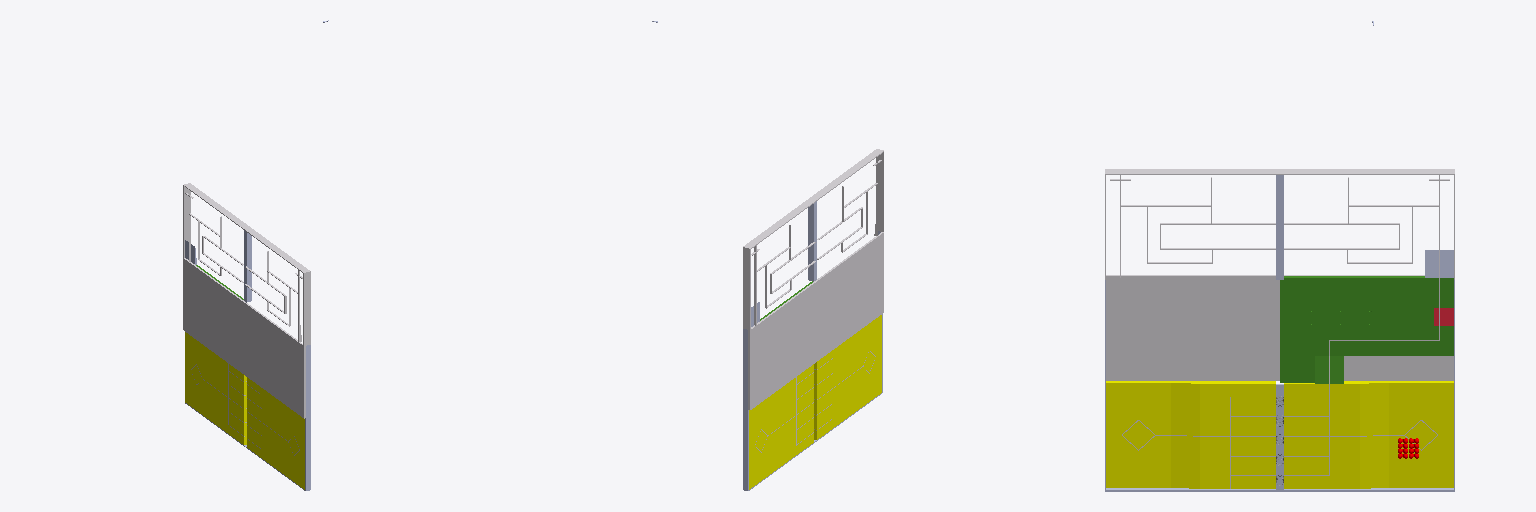
--- Facts derived from the render (not from the file) ---
Views: 3 orthographic renders of the robot side by side, from view 1: azimuth 30°, elevation 25°; view 2: azimuth 150°, elevation 25°; view 3: azimuth 270°, elevation 25°.
Robot: areaurdf_noarea1 — 28 links, 27 joints (27 fixed); root link base_link; default pose: every joint at zero.
Links seen in each view (by area): view 1: l3, l7, l6, l9; view 2: l3, l7, l6, l9, base_link; view 3: l3, l7, l2, l6, l9, base_link, l1, l8.
Boxes of the visible links, bbox=[...] form: l3: bbox=[183, 183, 310, 455]; l7: bbox=[208, 349, 282, 473]; l6: bbox=[185, 332, 304, 489]; l9: bbox=[185, 345, 310, 490]; l3: bbox=[743, 149, 883, 452]; l7: bbox=[774, 333, 856, 470]; l6: bbox=[749, 315, 881, 489]; l9: bbox=[743, 231, 882, 490]; base_link: bbox=[808, 201, 816, 281]; l3: bbox=[1105, 169, 1454, 488]; l7: bbox=[1171, 381, 1388, 488]; l2: bbox=[1280, 276, 1453, 383]; l6: bbox=[1106, 381, 1453, 487]; l9: bbox=[1105, 280, 1454, 491]; base_link: bbox=[1276, 175, 1283, 279]; l1: bbox=[1425, 250, 1453, 277]; l8: bbox=[1276, 384, 1283, 489].
Bounding box of the posed robot: 6.77 × 12.1 × 20.76 m (x, y, z).
Meshes: 12 distinct files referenced, 11 mesh visuals loaded (11 binary STL); not drawn: 1 (reference not matched to a file when rendering).

The robot description file, URDF, robot "areaurdf_noarea1":
<?xml version="1.0" encoding="utf-8"?>
<!-- This URDF was automatically created by SolidWorks to URDF Exporter! Originally created by Stephen Brawner ([email redacted]) 
     Commit Version: 1.6.0-4-g7f85cfe  Build Version: 1.6.7995.38578
     For more information, please see http://wiki.ros.org/sw_urdf_exporter -->
<robot
  name="areaurdf_noarea1">









  <link
    name="base_link">
    <inertial>
      <origin
        xyz="0.25 -1.69475467221629E-15 5"
        rpy="0 0 0" />
      <mass
        value="300" />
      <inertia
        ixx="401.5625"
        ixy="2.29789624476107E-15"
        ixz="-1.45077222109846E-15"
        iyy="402.25"
        iyz="-2.08654509120365E-13"
        izz="3.8125" />
    </inertial>
    <visual>
      <origin
        xyz="0 0 0"
        rpy="0 0 0" />
      <geometry>
        <mesh
          filename="package://areaurdf_noarea1/meshes/base_link.STL" />
      </geometry>
      <material
        name="">
        <color
          rgba="0.792156862745098 0.819607843137255 0.933333333333333 1" />
      </material>
    </visual>
    <collision>
      <origin
        xyz="0 0 0"
        rpy="0 0 0" />
      <geometry>
        <mesh
          filename="package://areaurdf_noarea1/meshes/base_link.STL" />
      </geometry>
    </collision>
  </link>
  <link
    name="l3">
    <inertial>
      <origin
        xyz="0.0659132786861086 0.017846055913745 0.341576441315705"
        rpy="0 0 0" />
      <mass
        value="5591.38461642368" />
      <inertia
        ixx="75884.9056933627"
        ixy="0.260769599932533"
        ixz="0.190528362739135"
        iyy="7368.87173400722"
        iyz="-28.4914129480721"
        izz="68536.2903750166" />
    </inertial>
    <visual>
      <origin
        xyz="0 0 0"
        rpy="0 0 0" />
      <geometry>
        <mesh
          filename="package://areaurdf_noarea1/meshes/l3.STL" />
      </geometry>
      <material
        name="">
        <color
          rgba="0.898039215686275 0.882352941176471 0.901960784313726 1" />
      </material>
    </visual>
    <collision>
      <origin
        xyz="0 0 0"
        rpy="0 0 0" />
      <geometry>
        <mesh
          filename="package://areaurdf_noarea1/meshes/l3.STL" />
      </geometry>
    </collision>
  </link>







  <!-- Define the joint between the ball link and the base link -->
<joint name="ball_joint1" type="fixed">
  <!-- Specify the origin of the joint -->
  <origin xyz="1.09038 0.847497 0.755788" />
  <!-- Connect the ball link to the base link -->
  <parent link="base_link"/>
  <child link="ball1"/>
</joint>

<!-- Define the ball link -->
<link name="ball1">
  <!-- Define the ball visual -->
  <visual>
    <origin xyz="-0.794951806922509 3.3 -5.5" /> <!-- Position of the ball -->
    <geometry>
      <sphere radius="0.095" /> <!-- Diameter: 190 mm / 2 = 0.095 meters -->
    </geometry>
    <material name="red"> <!-- Assuming red color -->
      <color rgba="1 0 0 1" /> <!-- Red color -->
    </material>
  </visual>
  <!-- Define the ball collision -->
  <collision>
    <origin xyz="-0.794951806922509 3.3 -5.5" /> <!-- Position of the ball -->
    <geometry>
      <sphere radius="0.095" /> <!-- Same diameter as visual -->
    </geometry>
  </collision>
  <!-- Define the ball inertia -->

  <inertial>
    <origin xyz="1.09038 0.847497 0.755788" /> <!-- Position of the ball -->
    <mass value="0.325" /> <!-- Assuming the weight is 325 grams -->
    <inertia ixx="0.004" ixy="0" ixz="0" iyy="0.004" iyz="0" izz="0.004" />
    <!-- <inertia ixx="0.004" iyy="0.004" izz="0.004" /> Assuming spherical inertia -->
  </inertial>
  
</link>








<!-- Define the joint between the ball link and the base link -->
<joint name="ball_joint2" type="fixed">
  <!-- Specify the origin of the joint -->
  <origin xyz="1.09038 0.847497 0.755788" />
  <!-- Connect the ball link to the base link -->
  <parent link="base_link"/>
  <child link="ball2"/>
</joint>

<!-- Define the ball link -->
<link name="ball2">
  <!-- Define the ball visual -->
  <visual>
    <origin xyz="-0.794951806922509 3.49 -5.5" /> <!-- Position of the ball -->
    <geometry>
      <sphere radius="0.095" /> <!-- Diameter: 190 mm / 2 = 0.095 meters -->
    </geometry>
    <material name="red"> <!-- Assuming red color -->
      <color rgba="1 0 0 1" /> <!-- Red color -->
    </material>
  </visual>
  <!-- Define the ball collision -->
  <collision>
    <origin xyz="-0.794951806922509 3.49 -5.5" /> <!-- Position of the ball -->
    <geometry>
      <sphere radius="0.095" /> <!-- Same diameter as visual -->
    </geometry>
  </collision>
  <!-- Define the ball inertia -->

  <inertial>
    <origin xyz="1.09038 0.847497 0.755788" /> <!-- Position of the ball -->
    <mass value="0.325" /> <!-- Assuming the weight is 325 grams -->
    <inertia ixx="0.004" ixy="0" ixz="0" iyy="0.004" iyz="0" izz="0.004" />
    <!-- <inertia ixx="0.004" iyy="0.004" izz="0.004" /> Assuming spherical inertia -->
  </inertial>
  
</link>




<!-- Define the joint between the ball link and the base link -->
<joint name="ball_joint3" type="fixed">
  <!-- Specify the origin of the joint -->
  <origin xyz="1.09038 0.847497 0.755788" />
  <!-- Connect the ball link to the base link -->
  <parent link="base_link"/>
  <child link="ball3"/>
</joint>





<!-- Define the ball link -->
<link name="ball3">
  <!-- Define the ball visual -->
  <visual>
    <origin xyz="-0.794951806922509 3.68 -5.5" /> <!-- Position of the ball -->
    <geometry>
      <sphere radius="0.095" /> <!-- Diameter: 190 mm / 2 = 0.095 meters -->
    </geometry>
    <material name="red"> <!-- Assuming red color -->
      <color rgba="1 0 0 1" /> <!-- Red color -->
    </material>
  </visual>
  <!-- Define the ball collision -->
  <collision>
    <origin xyz="-0.794951806922509 3.68 -5.5" /> <!-- Position of the ball -->
    <geometry>
      <sphere radius="0.095" /> <!-- Same diameter as visual -->
    </geometry>
  </collision>
  <!-- Define the ball inertia -->

  <inertial>
    <origin xyz="1.09038 0.847497 0.755788" /> <!-- Position of the ball -->
    <mass value="0.325" /> <!-- Assuming the weight is 325 grams -->
    <inertia ixx="0.004" ixy="0" ixz="0" iyy="0.004" iyz="0" izz="0.004" />
    <!-- <inertia ixx="0.004" iyy="0.004" izz="0.004" /> Assuming spherical inertia -->
  </inertial>
  
</link>



<!-- Define the joint between the ball link and the base link -->
<joint name="ball_joint4" type="fixed">
  <!-- Specify the origin of the joint -->
  <origin xyz="1.09038 0.847497 0.755788" />
  <!-- Connect the ball link to the base link -->
  <parent link="base_link"/>
  <child link="ball4"/>
</joint>






<!-- Define the ball link -->
<link name="ball4">
  <!-- Define the ball visual -->
  <visual>
    <origin xyz="-0.794951806922509 3.87 -5.5" /> <!-- Position of the ball -->
    <geometry>
      <sphere radius="0.095" /> <!-- Diameter: 190 mm / 2 = 0.095 meters -->
    </geometry>
    <material name="red"> <!-- Assuming red color -->
      <color rgba="1 0 0 1" /> <!-- Red color -->
    </material>
  </visual>
  <!-- Define the ball collision -->
  <collision>
    <origin xyz="-0.794951806922509 3.87 -5.5" /> <!-- Position of the ball -->
    <geometry>
      <sphere radius="0.095" /> <!-- Same diameter as visual -->
    </geometry>
  </collision>
  <!-- Define the ball inertia -->

  <inertial>
    <origin xyz="1.09038 0.847497 0.755788" /> <!-- Position of the ball -->
    <mass value="0.325" /> <!-- Assuming the weight is 325 grams -->
    <inertia ixx="0.004" ixy="0" ixz="0" iyy="0.004" iyz="0" izz="0.004" />
    <!-- <inertia ixx="0.004" iyy="0.004" izz="0.004" /> Assuming spherical inertia -->
  </inertial>
  
</link>




<!-- Define the joint between the ball link and the base link -->
<joint name="ball_joint5" type="fixed">
  <!-- Specify the origin of the joint -->
  <origin xyz="1.09038 0.847497 0.755788" />
  <!-- Connect the ball link to the base link -->
  <parent link="base_link"/>
  <child link="ball5"/>
</joint>

<!-- Define the ball link -->
<link name="ball5">
  <!-- Define the ball visual -->
  <visual>
    <origin xyz="-0.794951806922509 3.87 -5.31" /> <!-- Position of the ball -->
    <geometry>
      <sphere radius="0.095" /> <!-- Diameter: 190 mm / 2 = 0.095 meters -->
    </geometry>
    <material name="red"> <!-- Assuming red color -->
      <color rgba="1 0 0 1" /> <!-- Red color -->
    </material>
  </visual>
  <!-- Define the ball collision -->
  <collision>
    <origin xyz="-0.794951806922509 3.87 -5.31" /> <!-- Position of the ball -->
    <geometry>
      <sphere radius="0.095" /> <!-- Same diameter as visual -->
    </geometry>
  </collision>
  <!-- Define the ball inertia -->

  <inertial>
    <origin xyz="1.09038 0.847497 0.755788" /> <!-- Position of the ball -->
    <mass value="0.325" /> <!-- Assuming the weight is 325 grams -->
    <inertia ixx="0.004" ixy="0" ixz="0" iyy="0.004" iyz="0" izz="0.004" />
    <!-- <inertia ixx="0.004" iyy="0.004" izz="0.004" /> Assuming spherical inertia -->
  </inertial>
  
</link>




<!-- Define the joint between the ball link and the base link -->
<joint name="ball_joint6" type="fixed">
  <!-- Specify the origin of the joint -->
  <origin xyz="1.09038 0.847497 0.755788" />
  <!-- Connect the ball link to the base link -->
  <parent link="base_link"/>
  <child link="ball6"/>
</joint>

<!-- Define the ball link -->
<link name="ball6">
  <!-- Define the ball visual -->
  <visual>
    <origin xyz="-0.794951806922509 3.87 -5.12" /> <!-- Position of the ball -->
    <geometry>
      <sphere radius="0.095" /> <!-- Diameter: 190 mm / 2 = 0.095 meters -->
    </geometry>
    <material name="red"> <!-- Assuming red color -->
      <color rgba="1 0 0 1" /> <!-- Red color -->
    </material>
  </visual>
  <!-- Define the ball collision -->
  <collision>
    <origin xyz="-0.794951806922509 3.87 -5.12" /> <!-- Position of the ball -->
    <geometry>
      <sphere radius="0.095" /> <!-- Same diameter as visual -->
    </geometry>
  </collision>
  <!-- Define the ball inertia -->

  <inertial>
    <origin xyz="1.09038 0.847497 0.755788" /> <!-- Position of the ball -->
    <mass value="0.325" /> <!-- Assuming the weight is 325 grams -->
    <inertia ixx="0.004" ixy="0" ixz="0" iyy="0.004" iyz="0" izz="0.004" />
    <!-- <inertia ixx="0.004" iyy="0.004" izz="0.004" /> Assuming spherical inertia -->
  </inertial>
  
</link>



<!-- Define the joint between the ball link and the base link -->
<joint name="ball_joint7" type="fixed">
  <!-- Specify the origin of the joint -->
  <origin xyz="1.09038 0.847497 0.755788" />
  <!-- Connect the ball link to the base link -->
  <parent link="base_link"/>
  <child link="ball7"/>
</joint>

<!-- Define the ball link -->
<link name="ball7">
  <!-- Define the ball visual -->
  <visual>
    <origin xyz="-0.794951806922509 3.87 -4.93" /> <!-- Position of the ball -->
    <geometry>
      <sphere radius="0.095" /> <!-- Diameter: 190 mm / 2 = 0.095 meters -->
    </geometry>
    <material name="red"> <!-- Assuming red color -->
      <color rgba="1 0 0 1" /> <!-- Red color -->
    </material>
  </visual>
  <!-- Define the ball collision -->
  <collision>
    <origin xyz="-0.794951806922509 3.87 -4.93" /> <!-- Position of the ball -->
    <geometry>
      <sphere radius="0.095" /> <!-- Same diameter as visual -->
    </geometry>
  </collision>
  <!-- Define the ball inertia -->

  <inertial>
    <origin xyz="1.09038 0.847497 0.755788" /> <!-- Position of the ball -->
    <mass value="0.325" /> <!-- Assuming the weight is 325 grams -->
    <inertia ixx="0.004" ixy="0" ixz="0" iyy="0.004" iyz="0" izz="0.004" />
    <!-- <inertia ixx="0.004" iyy="0.004" izz="0.004" /> Assuming spherical inertia -->
  </inertial>
  
</link>



<!-- Define the joint between the ball link and the base link -->
<joint name="ball_joint8" type="fixed">
  <!-- Specify the origin of the joint -->
  <origin xyz="1.09038 0.847497 0.755788" />
  <!-- Connect the ball link to the base link -->
  <parent link="base_link"/>
  <child link="ball8"/>
</joint>

<!-- Define the ball link -->
<link name="ball8">
  <!-- Define the ball visual -->
  <visual>
    <origin xyz="-0.794951806922509 3.3 -5.12" /> <!-- Position of the ball -->
    <geometry>
      <sphere radius="0.095" /> <!-- Diameter: 190 mm / 2 = 0.095 meters -->
    </geometry>
    <material name="red"> <!-- Assuming red color -->
      <color rgba="1 0 0 1" /> <!-- Red color -->
    </material>
  </visual>
  <!-- Define the ball collision -->
  <collision>
    <origin xyz="-0.794951806922509 3.3 -5.12" /> <!-- Position of the ball -->
    <geometry>
      <sphere radius="0.095" /> <!-- Same diameter as visual -->
    </geometry>
  </collision>
  <!-- Define the ball inertia -->

  <inertial>
    <origin xyz="1.09038 0.847497 0.755788" /> <!-- Position of the ball -->
    <mass value="0.325" /> <!-- Assuming the weight is 325 grams -->
    <inertia ixx="0.004" ixy="0" ixz="0" iyy="0.004" iyz="0" izz="0.004" />
    <!-- <inertia ixx="0.004" iyy="0.004" izz="0.004" /> Assuming spherical inertia -->
  </inertial>
  
</link>





<!-- Define the joint between the ball link and the base link -->
<joint name="ball_joint9" type="fixed">
  <!-- Specify the origin of the joint -->
  <origin xyz="1.09038 0.847497 0.755788" />
  <!-- Connect the ball link to the base link -->
  <parent link="base_link"/>
  <child link="ball9"/>
</joint>

<!-- Define the ball link -->
<link name="ball9">
  <!-- Define the ball visual -->
  <visual>
    <origin xyz="-0.794951806922509 3.3 -5.31" /> <!-- Position of the ball -->
    <geometry>
      <sphere radius="0.095" /> <!-- Diameter: 190 mm / 2 = 0.095 meters -->
    </geometry>
    <material name="red"> <!-- Assuming red color -->
      <color rgba="1 0 0 1" /> <!-- Red color -->
    </material>
  </visual>
  <!-- Define the ball collision -->
  <collision>
    <origin xyz="-0.794951806922509 3.3 -5.31" /> <!-- Position of the ball -->
    <geometry>
      <sphere radius="0.095" /> <!-- Same diameter as visual -->
    </geometry>
  </collision>
  <!-- Define the ball inertia -->

  <inertial>
    <origin xyz="1.09038 0.847497 0.755788" /> <!-- Position of the ball -->
    <mass value="0.325" /> <!-- Assuming the weight is 325 grams -->
    <inertia ixx="0.004" ixy="0" ixz="0" iyy="0.004" iyz="0" izz="0.004" />
    <!-- <inertia ixx="0.004" iyy="0.004" izz="0.004" /> Assuming spherical inertia -->
  </inertial>
  
</link>



<!-- Define the joint between the ball link and the base link -->
<joint name="ball_joint10" type="fixed">
  <!-- Specify the origin of the joint -->
  <origin xyz="1.09038 0.847497 0.755788" />
  <!-- Connect the ball link to the base link -->
  <parent link="base_link"/>
  <child link="ball10"/>
</joint>

<!-- Define the ball link -->
<link name="ball10">
  <!-- Define the ball visual -->
  <visual>
    <origin xyz="-0.794951806922509 3.3 -4.93" /> <!-- Position of the ball -->
    <geometry>
      <sphere radius="0.095" /> <!-- Diameter: 190 mm / 2 = 0.095 meters -->
    </geometry>
    <material name="red"> <!-- Assuming red color -->
      <color rgba="1 0 0 1" /> <!-- Red color -->
    </material>
  </visual>
  <!-- Define the ball collision -->
  <collision>
    <origin xyz="-0.794951806922509 3.3 -4.93" /> <!-- Position of the ball -->
    <geometry>
      <sphere radius="0.095" /> <!-- Same diameter as visual -->
    </geometry>
  </collision>
  <!-- Define the ball inertia -->

  <inertial>
    <origin xyz="1.09038 0.847497 0.755788" /> <!-- Position of the ball -->
    <mass value="0.325" /> <!-- Assuming the weight is 325 grams -->
    <inertia ixx="0.004" ixy="0" ixz="0" iyy="0.004" iyz="0" izz="0.004" />
    <!-- <inertia ixx="0.004" iyy="0.004" izz="0.004" /> Assuming spherical inertia -->
  </inertial>
  
</link>




<!-- Define the joint between the ball link and the base link -->
<joint name="ball_joint11" type="fixed">
  <!-- Specify the origin of the joint -->
  <origin xyz="1.09038 0.847497 0.755788" />
  <!-- Connect the ball link to the base link -->
  <parent link="base_link"/>
  <child link="ball11"/>
</joint>

<!-- Define the ball link -->
<link name="ball11">
  <!-- Define the ball visual -->
  <visual>
    <origin xyz="-0.794951806922509 3.49 -5.31" /> <!-- Position of the ball -->
    <geometry>
      <sphere radius="0.095" /> <!-- Diameter: 190 mm / 2 = 0.095 meters -->
    </geometry>
    <material name="red"> <!-- Assuming red color -->
      <color rgba="1 0 0 1" /> <!-- Red color -->
    </material>
  </visual>
  <!-- Define the ball collision -->
  <collision>
    <origin xyz="-0.794951806922509 3.49 -5.31" /> <!-- Position of the ball -->
    <geometry>
      <sphere radius="0.095" /> <!-- Same diameter as visual -->
    </geometry>
  </collision>
  <!-- Define the ball inertia -->

  <inertial>
    <origin xyz="1.09038 0.847497 0.755788" /> <!-- Position of the ball -->
    <mass value="0.325" /> <!-- Assuming the weight is 325 grams -->
    <inertia ixx="0.004" ixy="0" ixz="0" iyy="0.004" iyz="0" izz="0.004" />
    <!-- <inertia ixx="0.004" iyy="0.004" izz="0.004" /> Assuming spherical inertia -->
  </inertial>
  
</link>





  <!-- Define the joint between the ball link and the base link -->
<joint name="ball_joint12" type="fixed">
  <!-- Specify the origin of the joint -->
  <origin xyz="1.09038 0.847497 0.755788" />
  <!-- Connect the ball link to the base link -->
  <parent link="base_link"/>
  <child link="ball12"/>
</joint>

<!-- Define the ball link -->
<link name="ball12">
  <!-- Define the ball visual -->
  <visual>
    <origin xyz="-0.794951806922509 3.49 -5.12" /> <!-- Position of the ball -->
    <geometry>
      <sphere radius="0.095" /> <!-- Diameter: 190 mm / 2 = 0.095 meters -->
    </geometry>
    <material name="red"> <!-- Assuming red color -->
      <color rgba="1 0 0 1" /> <!-- Red color -->
    </material>
  </visual>
  <!-- Define the ball collision -->
  <collision>
    <origin xyz="-0.794951806922509 3.49 -5.12" /> <!-- Position of the ball -->
    <geometry>
      <sphere radius="0.095" /> <!-- Same diameter as visual -->
    </geometry>
  </collision>
  <!-- Define the ball inertia -->

  <inertial>
    <origin xyz="1.09038 0.847497 0.755788" /> <!-- Position of the ball -->
    <mass value="0.325" /> <!-- Assuming the weight is 325 grams -->
    <inertia ixx="0.004" ixy="0" ixz="0" iyy="0.004" iyz="0" izz="0.004" />
    <!-- <inertia ixx="0.004" iyy="0.004" izz="0.004" /> Assuming spherical inertia -->
  </inertial>
  
</link>




  <!-- Define the joint between the ball link and the base link -->
<joint name="ball_joint13" type="fixed">
  <!-- Specify the origin of the joint -->
  <origin xyz="1.09038 0.847497 0.755788" />
  <!-- Connect the ball link to the base link -->
  <parent link="base_link"/>
  <child link="ball13"/>
</joint>

<!-- Define the ball link -->
<link name="ball13">
  <!-- Define the ball visual -->
  <visual>
    <origin xyz="-0.794951806922509 3.49 -4.93" /> <!-- Position of the ball -->
    <geometry>
      <sphere radius="0.095" /> <!-- Diameter: 190 mm / 2 = 0.095 meters -->
    </geometry>
    <material name="red"> <!-- Assuming red color -->
      <color rgba="1 0 0 1" /> <!-- Red color -->
    </material>
  </visual>
  <!-- Define the ball collision -->
  <collision>
    <origin xyz="-0.794951806922509 3.49 -4.93" /> <!-- Position of the ball -->
    <geometry>
      <sphere radius="0.095" /> <!-- Same diameter as visual -->
    </geometry>
  </collision>
  <!-- Define the ball inertia -->

  <inertial>
    <origin xyz="1.09038 0.847497 0.755788" /> <!-- Position of the ball -->
    <mass value="0.325" /> <!-- Assuming the weight is 325 grams -->
    <inertia ixx="0.004" ixy="0" ixz="0" iyy="0.004" iyz="0" izz="0.004" />
    <!-- <inertia ixx="0.004" iyy="0.004" izz="0.004" /> Assuming spherical inertia -->
  </inertial>
  
</link>




  <!-- Define the joint between the ball link and the base link -->
<joint name="ball_joint14" type="fixed">
  <!-- Specify the origin of the joint -->
  <origin xyz="1.09038 0.847497 0.755788" />
  <!-- Connect the ball link to the base link -->
  <parent link="base_link"/>
  <child link="ball14"/>
</joint>

<!-- Define the ball link -->
<link name="ball14">
  <!-- Define the ball visual -->
  <visual>
    <origin xyz="-0.794951806922509 3.68 -5.31" /> <!-- Position of the ball -->
    <geometry>
      <sphere radius="0.095" /> <!-- Diameter: 190 mm / 2 = 0.095 meters -->
    </geometry>
    <material name="red"> <!-- Assuming red color -->
      <color rgba="1 0 0 1" /> <!-- Red color -->
    </material>
  </visual>
  <!-- Define the ball collision -->
  <collision>
    <origin xyz="-0.794951806922509 3.68 -5.31" /> <!-- Position of the ball -->
    <geometry>
      <sphere radius="0.095" /> <!-- Same diameter as visual -->
    </geometry>
  </collision>
  <!-- Define the ball inertia -->

  <inertial>
    <origin xyz="1.09038 0.847497 0.755788" /> <!-- Position of the ball -->
    <mass value="0.325" /> <!-- Assuming the weight is 325 grams -->
    <inertia ixx="0.004" ixy="0" ixz="0" iyy="0.004" iyz="0" izz="0.004" />
    <!-- <inertia ixx="0.004" iyy="0.004" izz="0.004" /> Assuming spherical inertia -->
  </inertial>
  
</link>



  <!-- Define the joint between the ball link and the base link -->
<joint name="ball_joint15" type="fixed">
  <!-- Specify the origin of the joint -->
  <origin xyz="1.09038 0.847497 0.755788" />
  <!-- Connect the ball link to the base link -->
  <parent link="base_link"/>
  <child link="ball15"/>
</joint>

<!-- Define the ball link -->
<link name="ball15">
  <!-- Define the ball visual -->
  <visual>
    <origin xyz="-0.794951806922509 3.68 -5.12" /> <!-- Position of the ball -->
    <geometry>
      <sphere radius="0.095" /> <!-- Diameter: 190 mm / 2 = 0.095 meters -->
    </geometry>
    <material name="red"> <!-- Assuming red color -->
      <color rgba="1 0 0 1" /> <!-- Red color -->
    </material>
  </visual>
  <!-- Define the ball collision -->
  <collision>
    <origin xyz="-0.794951806922509 3.68 -5.12" /> <!-- Position of the ball -->
    <geometry>
      <sphere radius="0.095" /> <!-- Same diameter as visual -->
    </geometry>
  </collision>
  <!-- Define the ball inertia -->

  <inertial>
    <origin xyz="1.09038 0.847497 0.755788" /> <!-- Position of the ball -->
    <mass value="0.325" /> <!-- Assuming the weight is 325 grams -->
    <inertia ixx="0.004" ixy="0" ixz="0" iyy="0.004" iyz="0" izz="0.004" />
    <!-- <inertia ixx="0.004" iyy="0.004" izz="0.004" /> Assuming spherical inertia -->
  </inertial>
  
</link>




  <!-- Define the joint between the ball link and the base link -->
<joint name="ball_joint16" type="fixed">
  <!-- Specify the origin of the joint -->
  <origin xyz="1.09038 0.847497 0.755788" />
  <!-- Connect the ball link to the base link -->
  <parent link="base_link"/>
  <child link="ball16"/>
</joint>

<!-- Define the ball link -->
<link name="ball16">
  <!-- Define the ball visual -->
  <visual>
    <origin xyz="-0.794951806922509 3.68 -4.93" /> <!-- Position of the ball -->
    <geometry>
      <sphere radius="0.095" /> <!-- Diameter: 190 mm / 2 = 0.095 meters -->
    </geometry>
    <material name="red"> <!-- Assuming red color -->
      <color rgba="1 0 0 1" /> <!-- Red color -->
    </material>
  </visual>
  <!-- Define the ball collision -->
  <collision>
    <origin xyz="-0.794951806922509 3.68 -4.93" /> <!-- Position of the ball -->
    <geometry>
      <sphere radius="0.095" /> <!-- Same diameter as visual -->
    </geometry>
  </collision>
  <!-- Define the ball inertia -->

  <inertial>
    <origin xyz="1.09038 0.847497 0.755788" /> <!-- Position of the ball -->
    <mass value="0.325" /> <!-- Assuming the weight is 325 grams -->
    <inertia ixx="0.004" ixy="0" ixz="0" iyy="0.004" iyz="0" izz="0.004" />
    <!-- <inertia ixx="0.004" iyy="0.004" izz="0.004" /> Assuming spherical inertia -->
  </inertial>
  
</link>





































  <joint
    name="j3"
    type="fixed">
    <origin
      xyz="0 0 0"
      rpy="0 0 0" />
    <parent
      link="base_link" />
    <child
      link="l3" />
    <axis
      xyz="0 0 0" />
  </joint>
  
  <link
    name="l4">
    <inertial>
      <origin
        xyz="0.15000000000002 5.65348965782814 0.499999999999996"
        rpy="0 0 0" />
      <mass
        value="45.445" />
      <inertia
        ixx="1.50659179166667"
        ixy="-2.21986089970393E-15"
        ixz="6.72552291638488E-19"
        iyy="0.870558447916665"
        iyz="6.6657136325138E-16"
        izz="0.711775010416668" />
    </inertial>
    <visual>
      <origin
        xyz="0 0 0"
        rpy="0 0 0" />
      <geometry>
        <mesh
          filename="package://areaurdf_noarea1/meshes/l4.STL" />
      </geometry>
      <material
        name="">
        <color
          rgba="0.956862745098039 0.211764705882353 0.298039215686275 1" />
      </material>
    </visual>
    <collision>
      <origin
        xyz="0 0 0"
        rpy="0 0 0" />
      <geometry>
        <mesh
          filename="package://areaurdf_noarea1/meshes/l4.STL" />
      </geometry>
    </collision>
  </link>
  <joint
    name="j4"
    type="fixed">
    <origin
      xyz="0 0 0"
      rpy="0 0 0" />
    <parent
      link="base_link" />
    <child
      link="l4" />
    <axis
      xyz="0 0 0" />
  </joint>
  <link
    name="l5">
    <inertial>
      <origin
        xyz="0.151971846644957 2.68798311898064 0.235002116540766"
        rpy="0 0 0" />
      <mass
        value="1995.50051543245" />
      <inertia
        ixx="7454.16456689752"
        ixy="3.61353217197107"
        ixz="7.71862188418717"
        iyy="2228.96673622696"
        iyz="-588.307413634482"
        izz="5229.1504182607" />
    </inertial>
    <visual>
      <origin
        xyz="0 0 0"
        rpy="0 0 0" />
      <geometry>
        <mesh
          filename="package://areaurdf_noarea1/meshes/l5.STL" />
      </geometry>
      <material
        name="">
        <color
          rgba="0.313725490196078 0.619607843137255 0.184313725490196 1" />
      </material>
    </visual>
    <collision>
      <origin
        xyz="0 0 0"
        rpy="0 0 0" />
      <geometry>
        <mesh
          filename="package://areaurdf_noarea1/meshes/l5.STL" />
      </geometry>
    </collision>
  </link>
  <joint
    name="j5"
    type="fixed">
    <origin
      xyz="0 0 0"
      rpy="0 0 0" />
    <parent
      link="base_link" />
    <child
      link="l5" />
    <axis
      xyz="0 0 0" />
  </joint>
  <link
    name="l6">
    <inertial>
      <origin
        xyz="0.15 4.99830923496937E-16 -4.00000000000001"
        rpy="0 0 0" />
      <mass
        value="1777.13238357633" />
      <inertia
        ixx="3152.52481992549"
        ixy="-2.60230486480174E-12"
        ixz="-1.35336531657938E-13"
        iyy="2399.27274412368"
        iyz="3.13848131233329E-15"
        izz="756.213963107772" />
    </inertial>
    <visual>
      <origin
        xyz="0 0 0"
        rpy="0 0 0" />
      <geometry>
        <mesh
          filename="package://areaurdf_noarea1/meshes/l6.STL" />
      </geometry>
      <material
        name="">
        <color
          rgba="1 1 0 1" />
      </material>
    </visual>
    <collision>
      <origin
        xyz="0 0 0"
        rpy="0 0 0" />
      <geometry>
        <mesh
          filename="package://areaurdf_noarea1/meshes/l6.STL" />
      </geometry>
    </collision>
  </link>
  <joint
    name="j6"
    type="fixed">
    <origin
      xyz="0 0 0"
      rpy="0 0 0" />
    <parent
      link="base_link" />
    <child
      link="l6" />
    <axis
      xyz="0 0 0" />
  </joint>
  <link
    name="l7">
    <inertial>
      <origin
        xyz="0.194951806922509 4.57759056324013E-16 -4"
        rpy="0 0 0" />
      <mass
        value="5242.8" />
      <inertia
        ixx="3281.52788895581"
        ixy="-7.28171102113052E-12"
        ixz="-1.18522342774187E-12"
        iyy="1179.43981475832"
        iyz="-326.159389444807"
        izz="2135.26666906355" />
    </inertial>
    <visual>
      <origin
        xyz="0 0 0"
        rpy="0 0 0" />
      <geometry>
        <mesh
          filename="package://areaurdf_noarea1/meshes/l7.STL" />
      </geometry>
      <material
        name="">
        <color
          rgba="1 1 0 1" />
      </material>
    </visual>
    <collision>
      <origin
        xyz="0 0 0"
        rpy="0 0 0" />
      <geometry>
        <mesh
          filename="package://areaurdf_noarea1/meshes/l7.STL" />
      </geometry>
    </collision>
  </link>
  <joint
    name="j7"
    type="fixed">
    <origin
      xyz="0 0 0"
      rpy="0 0 0" />
    <parent
      link="base_link" />
    <child
      link="l7" />
    <axis
      xyz="0 0 0" />
  </joint>
  <link
    name="l8">
    <inertial>
      <origin
        xyz="0.349999999999986 1.52101302779328E-15 -4"
        rpy="0 0 0" />
      <mass
        value="100" />
      <inertia
        ixx="133.854166666667"
        ixy="1.02864225841066E-17"
        ixz="-4.63784928371147E-13"
        iyy="133.416666666667"
        iyz="2.59906765909552E-16"
        izz="0.604166666666667" />
    </inertial>
    <visual>
      <origin
        xyz="0 0 0"
        rpy="0 0 0" />
      <geometry>
        <mesh
          filename="package://areaurdf_noarea1/meshes/l8.STL" />
      </geometry>
      <material
        name="">
        <color
          rgba="0.792156862745098 0.819607843137255 0.933333333333333 1" />
      </material>
    </visual>
    <collision>
      <origin
        xyz="0 0 0"
        rpy="0 0 0" />
      <geometry>
        <mesh
          filename="package://areaurdf_noarea1/meshes/l8.STL" />
      </geometry>
    </collision>
  </link>
  <joint
    name="j8"
    type="fixed">
    <origin
      xyz="0 0 0"
      rpy="0 0 0" />
    <parent
      link="base_link" />
    <child
      link="l8" />
    <axis
      xyz="0 0 0" />
  </joint>
  <link
    name="l9">
    <inertial>
      <origin
        xyz="0.25 -1.11032017197771E-13 -3.73318505338078"
        rpy="0 0 0" />
      <mass
        value="421.500000000006" />
      <inertia
        ixx="13880.945824066"
        ixy="-3.76898926246574E-11"
        ixz="2.66280382810366E-13"
        iyy="2957.4558240659"
        iyz="8.36321917215407E-11"
        izz="10929.8125000001" />
    </inertial>
    <visual>
      <origin
        xyz="0 0 0"
        rpy="0 0 0" />
      <geometry>
        <mesh
          filename="package://areaurdf_noarea1/meshes/l9.STL" />
      </geometry>
      <material
        name="">
        <color
          rgba="0.792156862745098 0.819607843137255 0.933333333333333 1" />
      </material>
    </visual>
    <collision>
      <origin
        xyz="0 0 0"
        rpy="0 0 0" />
      <geometry>
        <mesh
          filename="package://areaurdf_noarea1/meshes/l9.STL" />
      </geometry>
    </collision>
  </link>
  <joint
    name="j9"
    type="fixed">
    <origin
      xyz="0 0 0"
      rpy="0 0 0" />
    <parent
      link="base_link" />
    <child
      link="l9" />
    <axis
      xyz="0 0 0" />
  </joint>
  <link
    name="l10">
    <inertial>
      <origin
        xyz="0.612586366803305 5.62442734976455E-05 -3.99993166685058"
        rpy="0 0 0" />
      <mass
        value="1.38757839228589" />
      <inertia
        ixx="0.0217096826794302"
        ixy="3.63568501315003E-07"
        ixz="1.52145157983886E-05"
        iyy="0.0391422560714641"
        iyz="-2.09520982875488E-05"
        izz="0.0391488376203219" />
    </inertial>
    <visual>
      <origin
        xyz="0 0 0"
        rpy="0 0 0" />
      <geometry>
        <mesh
          filename="package://areaurdf_noarea1/meshes/l10.STL" />
      </geometry>
      <material
        name="">
        <color
          rgba="0.627450980392157 0.627450980392157 0.627450980392157 1" />
      </material>
    </visual>
    <collision>
      <origin
        xyz="0 0 0"
        rpy="0 0 0" />
      <geometry>
        <mesh
          filename="package://areaurdf_noarea1/meshes/l10.STL" />
      </geometry>
    </collision>
  </link>
  <joint
    name="j10"
    type="fixed">
    <origin
      xyz="0 0 0"
      rpy="0 0 0" />
    <parent
      link="base_link" />
    <child
      link="l10" />
    <axis
      xyz="0 0 0" />
  </joint>
  <link
    name="l1">
    <inertial>
      <origin
        xyz="0.133333333333353 5.5 2.33333333333333"
        rpy="0 0 0" />
      <mass
        value="48.5" />
      <inertia
        ixx="3.64514548611112"
        ixy="-3.24075138933781E-15"
        ixz="0.134722222222222"
        iyy="2.72138888888889"
        iyz="-5.87835360168963E-16"
        izz="0.977645486111113" />
    </inertial>
    <visual>
      <origin
        xyz="0 0 0"
        rpy="0 0 0" />
      <geometry>
        <mesh
          filename="package://areaurdf_noarea1/meshes/l1.STL" />
      </geometry>
      <material
        name="">
        <color
          rgba="0.792156862745098 0.819607843137255 0.933333333333333 1" />
      </material>
    </visual>
    <collision>
      <origin
        xyz="0 0 0"
        rpy="0 0 0" />
      <geometry>
        <mesh
          filename="package://areaurdf_noarea1/meshes/l1.STL" />
      </geometry>
    </collision>
  </link>
  <joint
    name="j1"
    type="fixed">
    <origin
      xyz="0 0 0"
      rpy="0 0 0" />
    <parent
      link="base_link" />
    <child
      link="l1" />
    <axis
      xyz="0 0 0" />
  </joint>
  <link
    name="l2">
    <inertial>
      <origin
        xyz="0.151971846644957 2.68798311898064 0.235002116540766"
        rpy="0 0 0" />
      <mass
        value="1995.50051543245" />
      <inertia
        ixx="7454.16456689752"
        ixy="3.61353217197111"
        ixz="7.71862188418716"
        iyy="2228.96673622696"
        iyz="-588.307413634482"
        izz="5229.1504182607" />
    </inertial>
    <visual>
      <origin
        xyz="0 0 0"
        rpy="0 0 0" />
      <geometry>
        <mesh
          filename="package://areaurdf_noarea1/meshes/l2.STL" />
      </geometry>
      <material
        name="">
        <color
          rgba="0.313725490196078 0.619607843137255 0.184313725490196 1" />
      </material>
    </visual>
    <collision>
      <origin
        xyz="0 0 0"
        rpy="0 0 0" />
      <geometry>
        <mesh
          filename="package://areaurdf_noarea1/meshes/l2.STL" />
      </geometry>
    </collision>
  </link>
  <joint
    name="j2"
    type="fixed">
    <origin
      xyz="0 0 0"
      rpy="0 0 0" />
    <parent
      link="base_link" />
    <child
      link="l2" />
    <axis
      xyz="0 0 0" />
  </joint>
  <link
    name="l11">
    <inertial>
      <origin
        xyz="6.57747506040163 3.21207283491756 14.67061004472"
        rpy="0 0 0" />
      <mass
        value="0.674289342514414" />
      <inertia
        ixx="0.000318951116704214"
        ixy="1.72297421572013E-17"
        ixz="6.80875126095148E-20"
        iyy="0.0052597300011439"
        iyz="-2.44631217259478E-21"
        izz="0.0052597300011439" />
    </inertial>
    <visual>
      <origin
        xyz="0 0 0"
        rpy="0 0 0" />
      <geometry>
        <mesh
          filename="package://areaurdf_noarea1/meshes/l11.STL" />
      </geometry>
      <material
        name="">
        <color
          rgba="0.792156862745098 0.819607843137255 0.933333333333333 1" />
      </material>
    </visual>
    <collision>
      <origin
        xyz="0 0 0"
        rpy="0 0 0" />
      <geometry>
        <mesh
          filename="package://areaurdf_noarea1/meshes/l11.STL" />
      </geometry>
    </collision>
  </link>
  <joint
    name="j11"
    type="fixed">
    <origin
      xyz="0 0 0"
      rpy="0 0 0" />
    <parent
      link="base_link" />
    <child
      link="l11" />
    <axis
      xyz="0 0 0" />
  </joint>
  

</robot>
